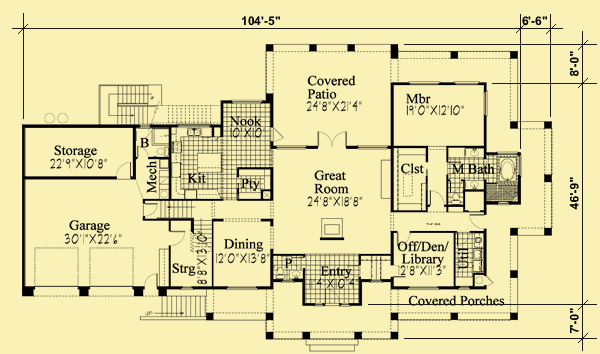door: (314, 130, 349, 152), (114, 159, 133, 183), (468, 211, 488, 232), (166, 228, 186, 248), (427, 187, 445, 208), (309, 301, 355, 309), (139, 271, 160, 288), (390, 264, 410, 279), (142, 201, 158, 218), (271, 126, 287, 143), (396, 230, 412, 244), (136, 144, 149, 159), (484, 274, 495, 288)
large sink: (447, 190, 464, 205), (465, 148, 486, 160)
small sink: (461, 178, 486, 192), (464, 146, 487, 161)
stairs: (97, 82, 164, 129), (139, 296, 208, 322), (156, 198, 215, 222), (189, 218, 213, 255)
tub: (496, 155, 517, 182)
windows: (226, 282, 262, 295), (272, 143, 307, 153), (409, 78, 442, 87), (453, 79, 481, 89), (355, 143, 389, 151), (482, 89, 491, 119), (405, 284, 443, 291)
